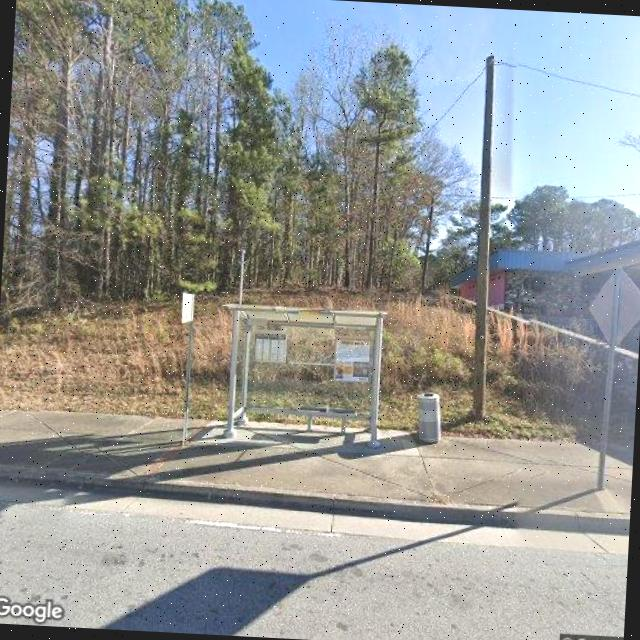seating: (296, 403, 358, 438)
shelter: (214, 302, 388, 451)
trash_can: (414, 391, 445, 445)
